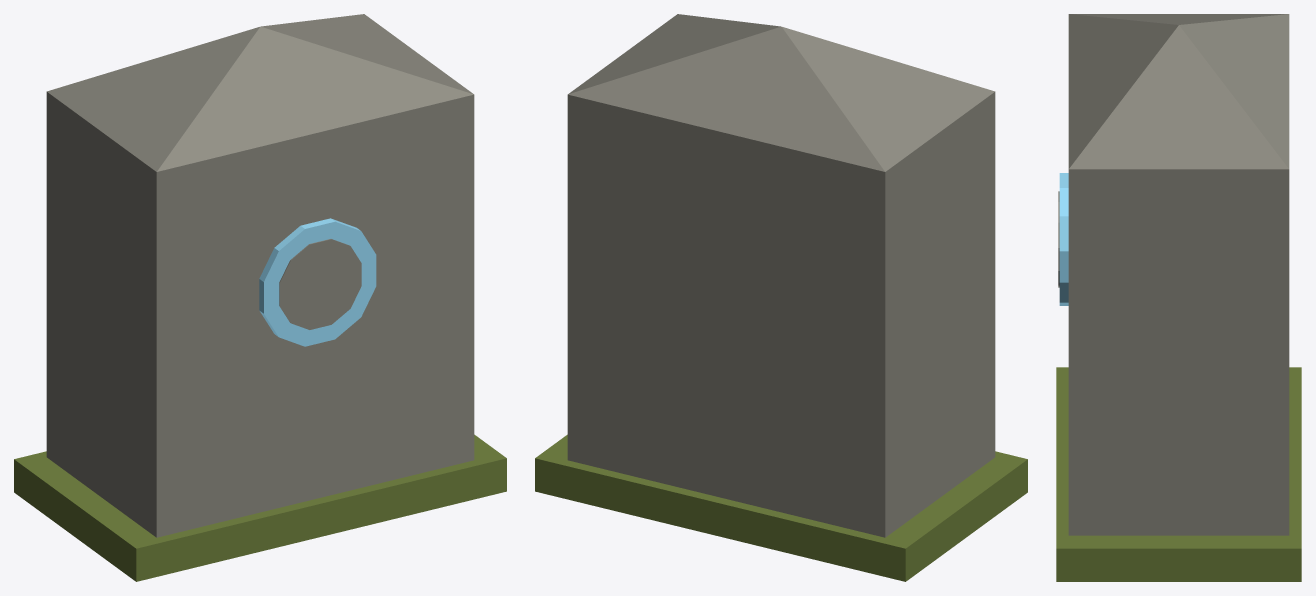
The model's file is waystone.glb.
The picture shows the model from 3 angles, left to right: view 1: azimuth 30°, elevation 25°; view 2: azimuth 150°, elevation 25°; view 3: azimuth 270°, elevation 25°; orthographic projection.
Parts seen in each view (by area): view 1: Waystone; view 2: Waystone; view 3: Waystone.
Part boxes in pixels (x1,y1,x2,y2): Waystone: [14, 14, 506, 581]; Waystone: [535, 14, 1027, 581]; Waystone: [1056, 14, 1301, 581].
Bounding box in the file's own units: 0.7 × 0.84 × 0.4.
